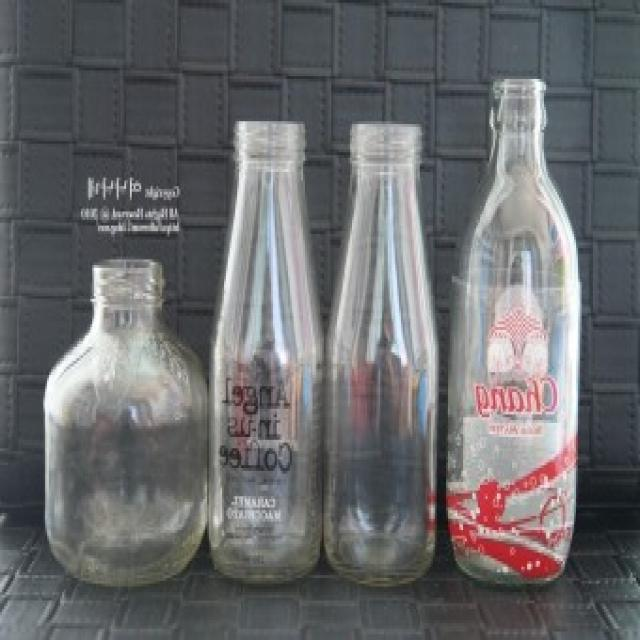glass: (446, 64, 586, 585), (315, 116, 445, 602), (202, 111, 324, 596), (36, 250, 212, 584)
